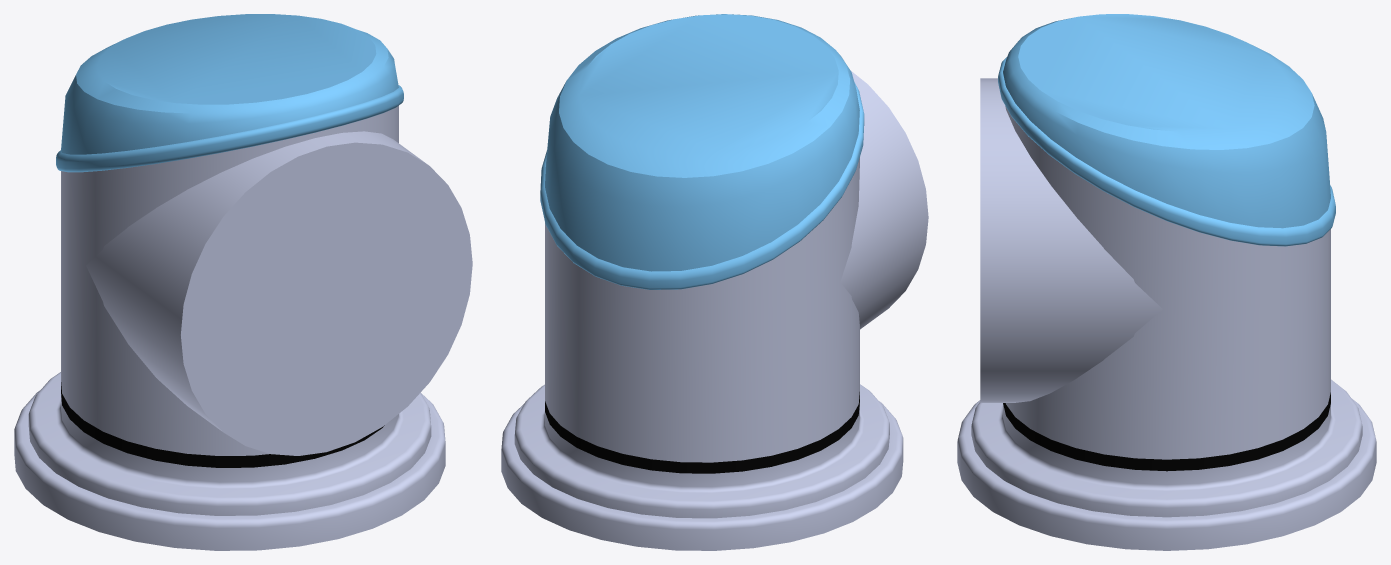
3 renders of one model, left to right at view 1: azimuth 30°, elevation 25°; view 2: azimuth 150°, elevation 25°; view 3: azimuth 270°, elevation 25°, orthographic. The views are drawn at different scales.
Parts seen in each view (by area): view 1: R1; view 2: R1; view 3: R1.
Part boxes in pixels (left/top/right/bottom): R1: left=14, top=14, right=472, bottom=550; R1: left=501, top=14, right=928, bottom=550; R1: left=957, top=14, right=1376, bottom=550.
Size of the model in its own units: 0.1477 by 0.1594 by 0.1489.
